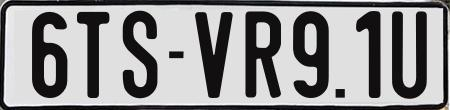1: (355, 10, 382, 100)
6: (32, 10, 73, 96)
9: (292, 9, 334, 100)
R: (242, 10, 282, 99)
S: (121, 11, 157, 98)
T: (76, 10, 112, 100)
U: (389, 10, 424, 98)
V: (193, 10, 234, 98)
